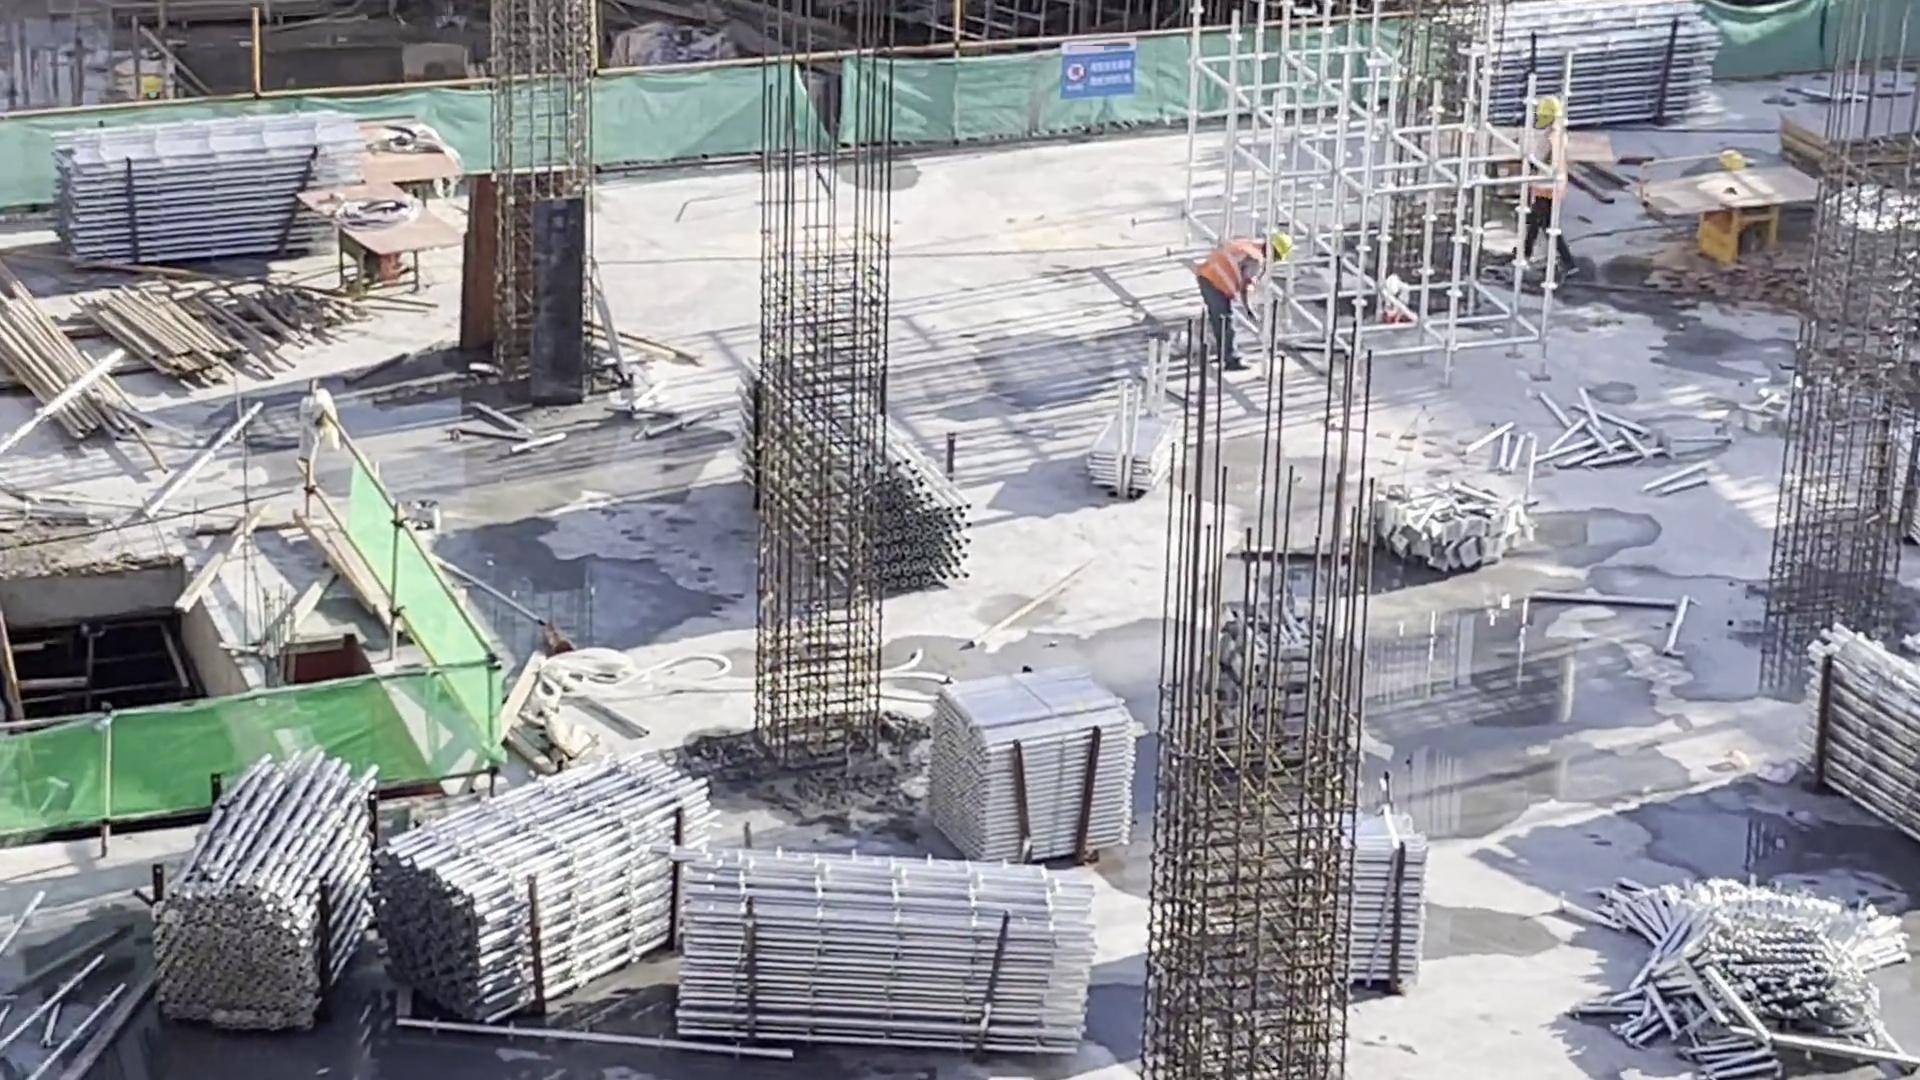cutter: (1420, 113, 1597, 201), (1671, 177, 1822, 264), (326, 190, 439, 283), (364, 114, 454, 188)
helmet: (1265, 229, 1292, 261), (1717, 144, 1746, 173), (1533, 98, 1561, 121)
person: (1193, 224, 1299, 371), (1512, 95, 1587, 277)
scaffold: (688, 844, 1093, 1039), (384, 777, 672, 1009), (1615, 876, 1904, 1072), (34, 113, 388, 273), (760, 377, 964, 640), (176, 781, 348, 1007), (963, 681, 1147, 863), (1464, 24, 1733, 131), (1287, 832, 1411, 1019), (1807, 637, 1920, 812), (1083, 408, 1170, 503)
slogan: (1051, 54, 1136, 100)
vest: (1197, 242, 1264, 300), (1531, 138, 1567, 199)
